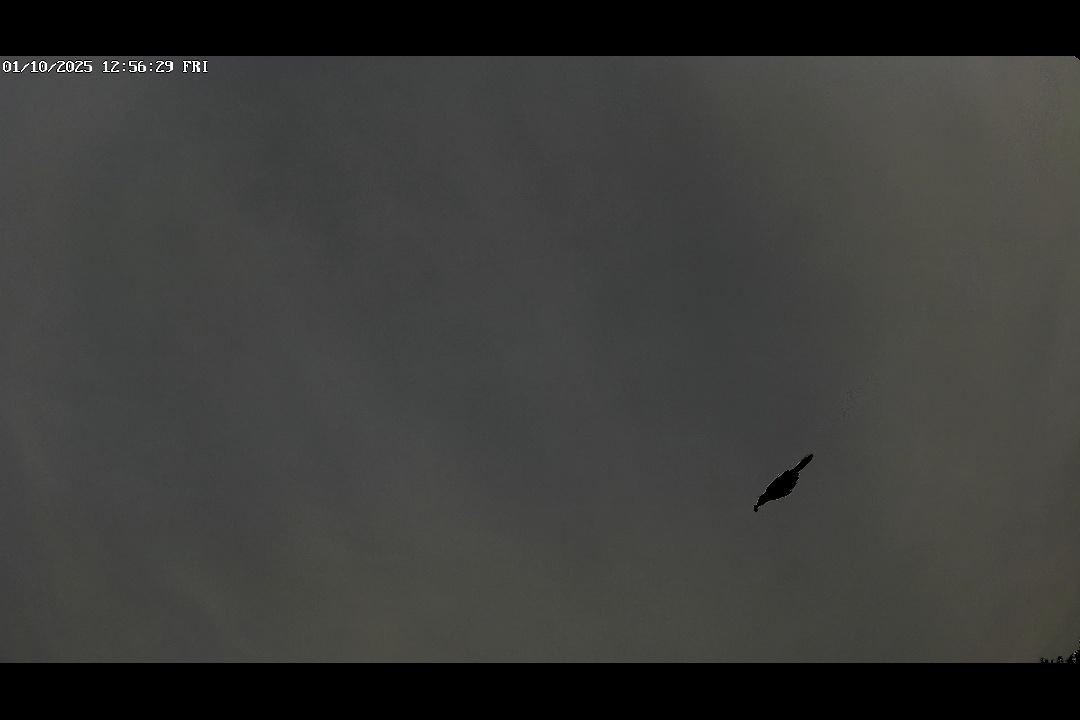WildLife: (745, 441, 840, 510)
